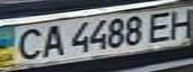4: (66, 19, 93, 54), (87, 16, 112, 52)
8: (124, 12, 148, 47), (106, 16, 130, 50)
A: (36, 22, 69, 58)
C: (6, 26, 48, 61)
E: (142, 10, 181, 43)
H: (163, 6, 193, 39)
